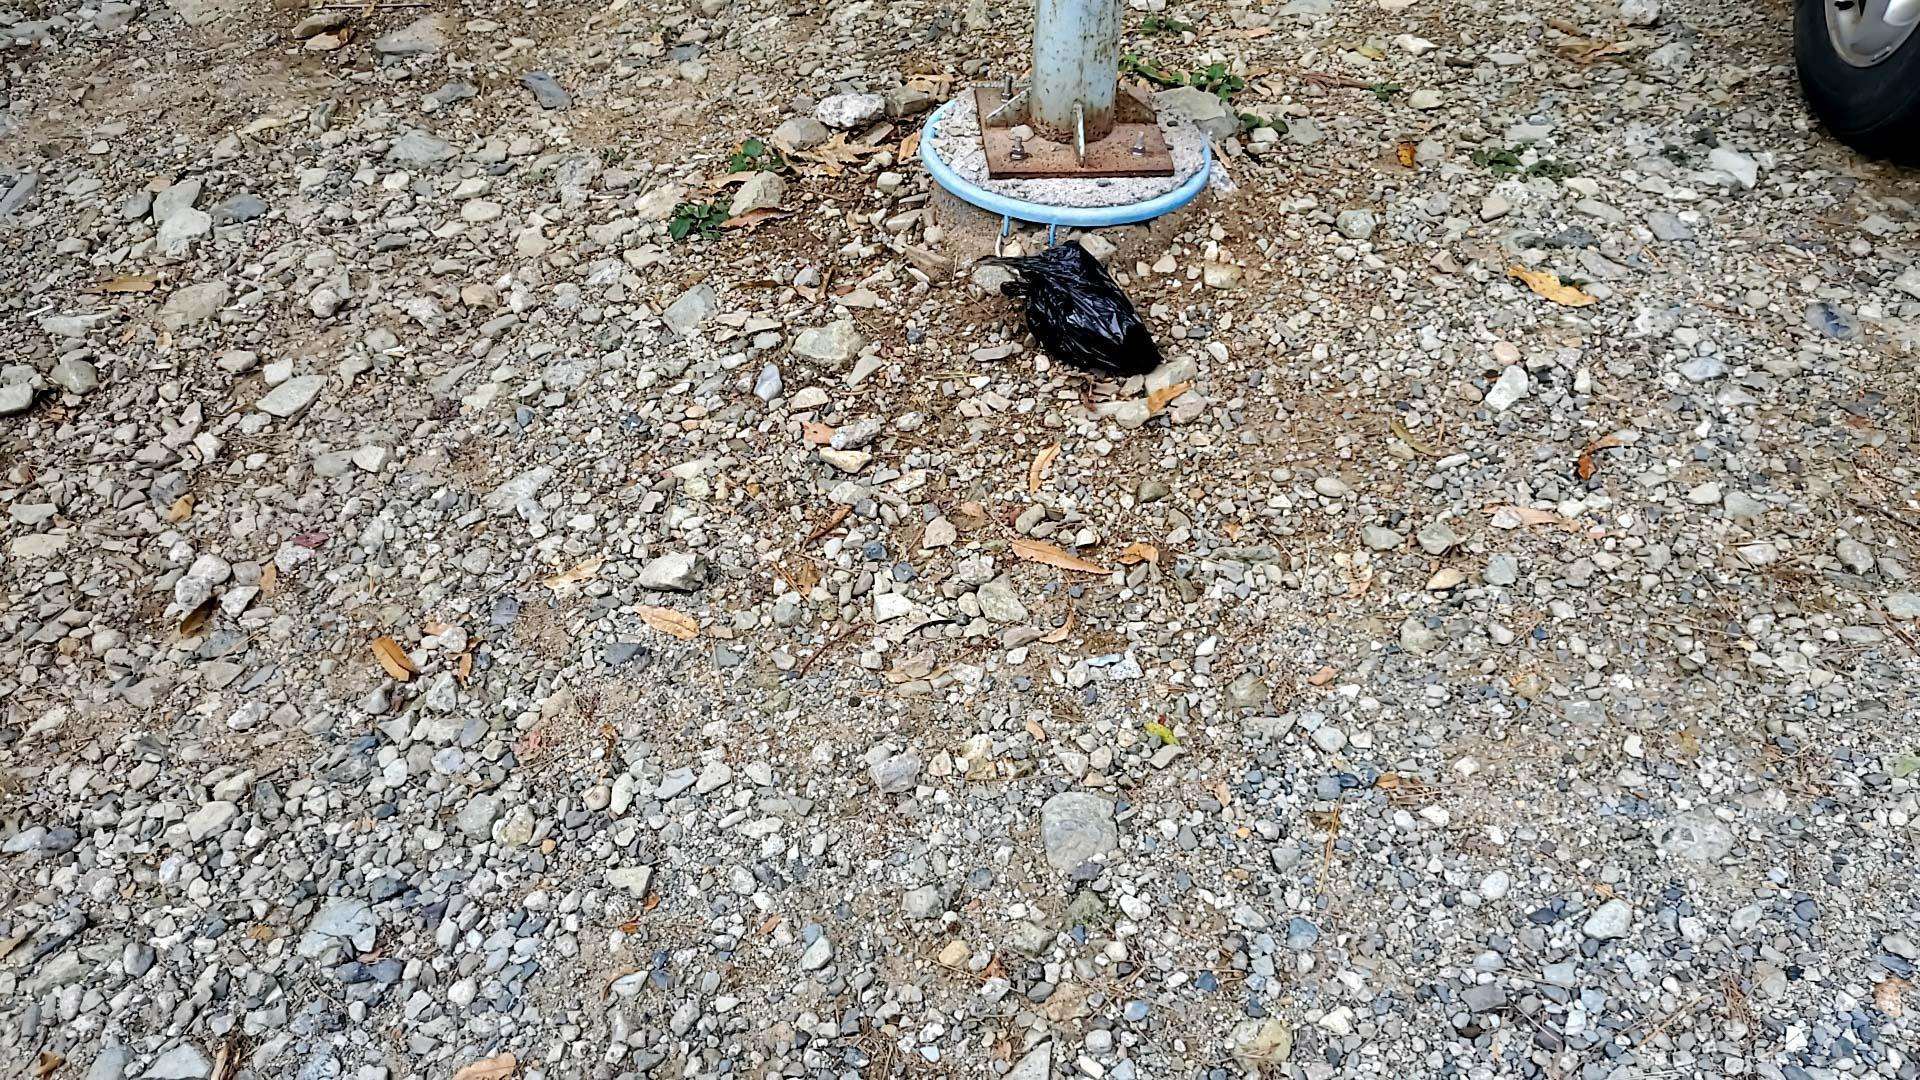black_bag: (987, 234, 1175, 387)
